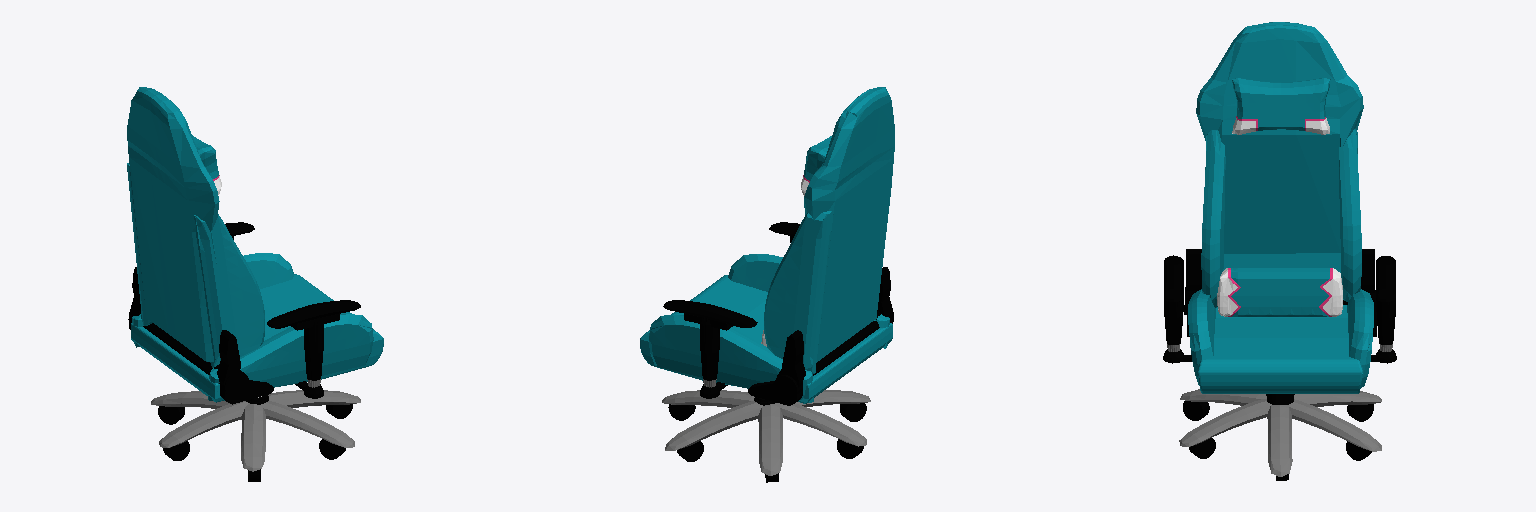
Rendered from chair.obj.
The picture shows the model from 3 angles: view 1: azimuth 30°, elevation 25°; view 2: azimuth 150°, elevation 25°; view 3: azimuth 270°, elevation 25°; orthographic projection.
Visible parts, largest first — view 1: Object_13_Mesh_10, Object_10_Mesh_7, Object_12_Mesh_9, Object_8_Mesh_5, Object_3_Mesh_0; view 2: Object_13_Mesh_10, Object_12_Mesh_9, Object_10_Mesh_7, Object_8_Mesh_5, Object_3_Mesh_0; view 3: Object_13_Mesh_10, Object_7_Mesh_4, Object_12_Mesh_9, Object_10_Mesh_7, Object_8_Mesh_5, Object_3_Mesh_0, Object_9_Mesh_6, Object_5_Mesh_2.
Part boxes in pixels (x1,y1,x2,y2): Object_13_Mesh_10: (127,87,383,402); Object_10_Mesh_7: (151,390,360,447); Object_12_Mesh_9: (129,222,360,460); Object_8_Mesh_5: (128,267,352,481); Object_3_Mesh_0: (241,403,265,471); Object_13_Mesh_10: (640,87,894,403); Object_12_Mesh_9: (663,222,893,458); Object_10_Mesh_7: (662,390,866,475); Object_8_Mesh_5: (668,311,893,482); Object_3_Mesh_0: (665,390,870,450); Object_13_Mesh_10: (1188,22,1373,393); Object_7_Mesh_4: (1221,134,1340,253); Object_12_Mesh_9: (1163,249,1396,363); Object_10_Mesh_7: (1179,391,1381,476); Object_8_Mesh_5: (1183,249,1375,480); Object_3_Mesh_0: (1180,389,1381,451); Object_9_Mesh_6: (1217,268,1342,316); Object_5_Mesh_2: (1232,118,1329,134).
Bounding box in the file's own units: 4.52 × 7.58 × 4.34.